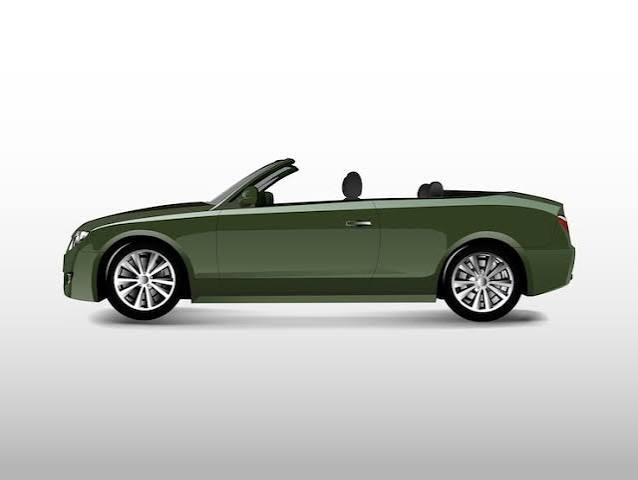car: (60, 156, 595, 329)
